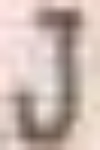J: (0, 0, 99, 149)
